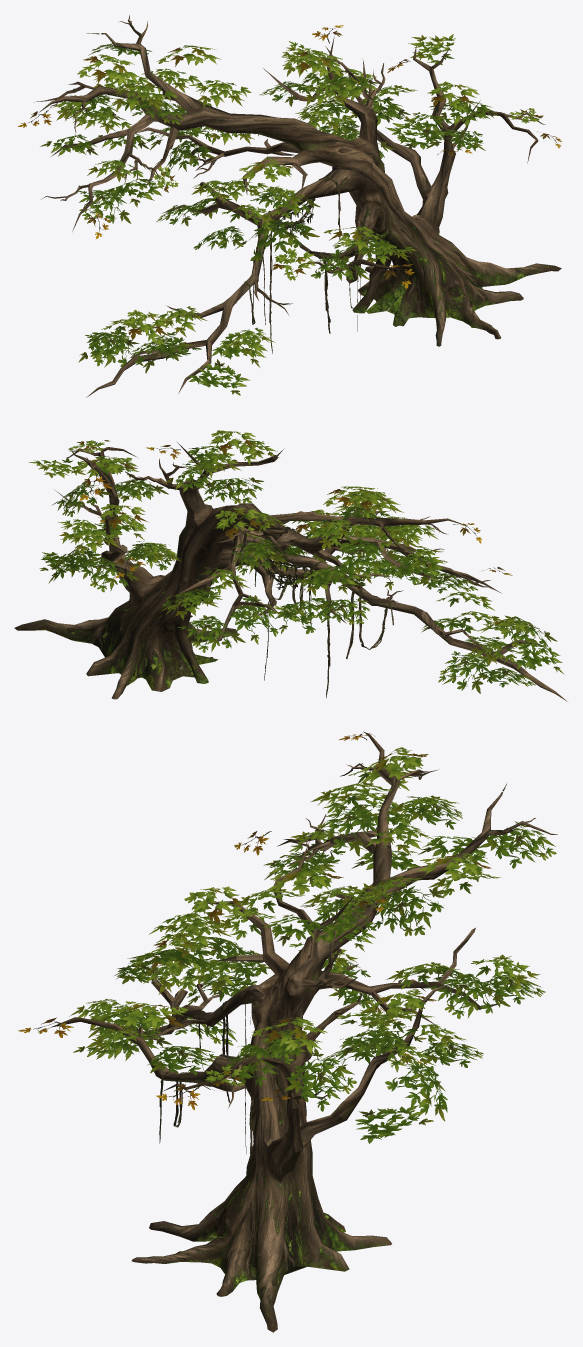
File: dx_shu_4.FBX
3 views of the same model, one above another, from view 1: azimuth 30°, elevation 25°; view 2: azimuth 150°, elevation 25°; view 3: azimuth 270°, elevation 25° (orthographic). The views are drawn at different scales.
Visible parts, largest first — view 1: dx_shu_4; view 2: dx_shu_4; view 3: dx_shu_4.
Boxes of the visible parts, <box> form: dx_shu_4: <box>18,15,561,397</box>; dx_shu_4: <box>14,430,567,701</box>; dx_shu_4: <box>18,731,557,1332</box>.
Bounding box in the file's own units: 3029 × 1532 × 2248.
